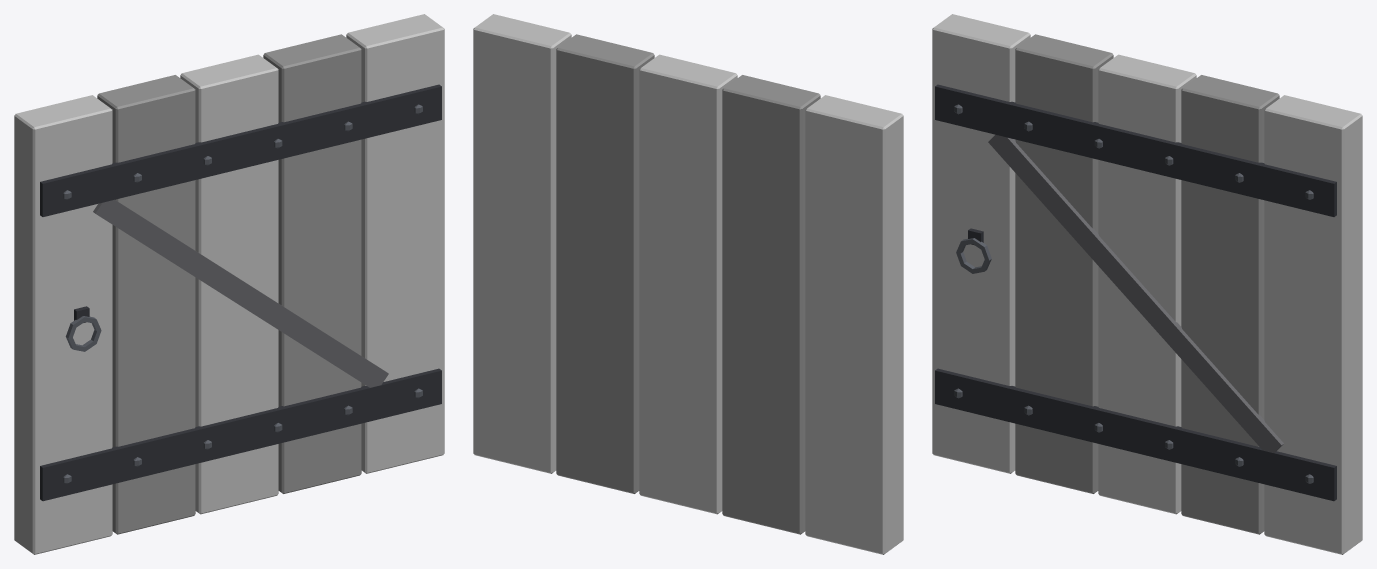
Rendered from door_panel.fbx.
3 renders of one model, left to right at view 1: azimuth 30°, elevation 25°; view 2: azimuth 150°, elevation 25°; view 3: azimuth 330°, elevation 25°, orthographic.
Visible parts, largest first — view 1: Panel; view 2: Panel; view 3: Panel.
Part boxes in pixels (bbox=[...]): Panel: bbox=[14, 14, 444, 554]; Panel: bbox=[473, 14, 903, 554]; Panel: bbox=[932, 14, 1362, 554].
Size of the model in its own units: 2.58 by 2.56 by 0.2741.
Materials: 1 (1 with a texture image).
